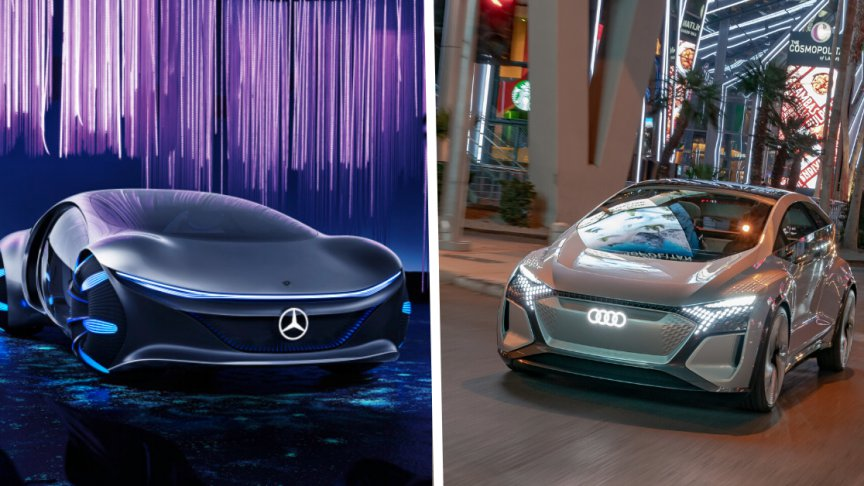car: (500, 174, 857, 422), (3, 182, 410, 396)
